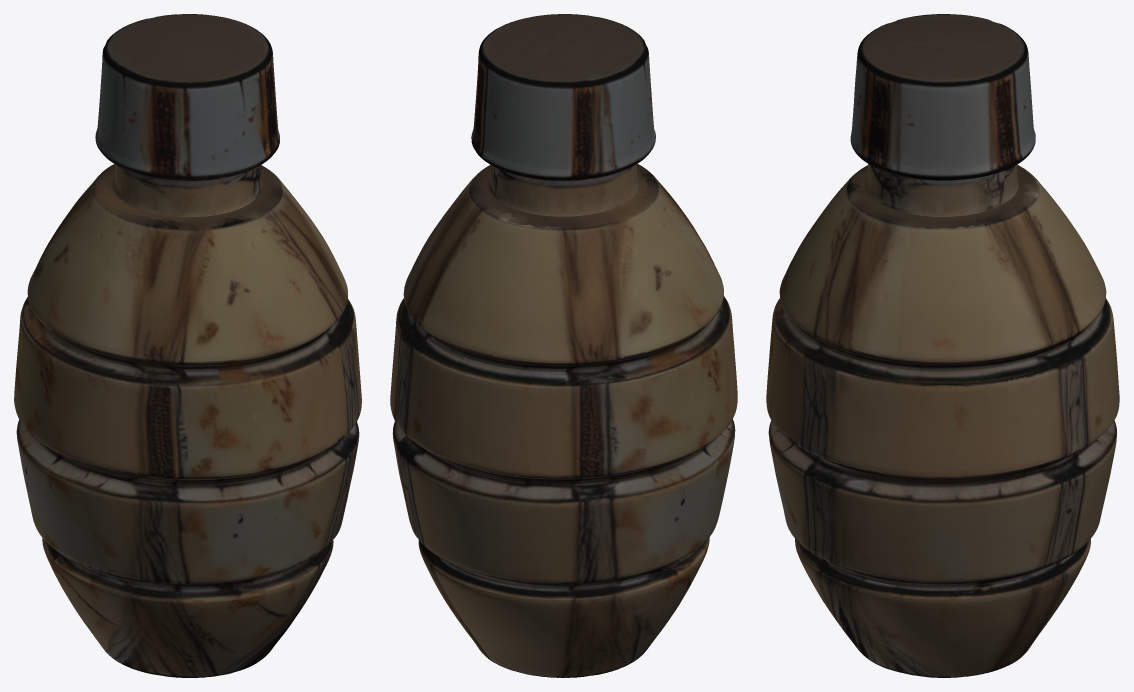
Rendered from catalog-field-throw-3.glb.
3 renders of one model, left to right at view 1: azimuth 30°, elevation 25°; view 2: azimuth 150°, elevation 25°; view 3: azimuth 270°, elevation 25°, orthographic.
Parts seen in each view (by area): view 1: tmpcy3jqyq5.ply; view 2: tmpcy3jqyq5.ply; view 3: tmpcy3jqyq5.ply.
Part boxes in pixels (<box>): tmpcy3jqyq5.ply: <box>14,14,361,677</box>; tmpcy3jqyq5.ply: <box>390,14,737,677</box>; tmpcy3jqyq5.ply: <box>766,14,1119,677</box>.
Size of the model in its own units: 1.03 by 1.96 by 1.05.
1 material, 1 textured.
